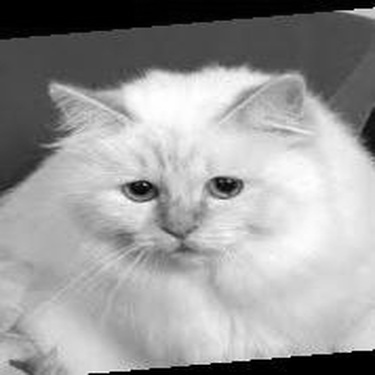cat: (11, 59, 369, 363)
